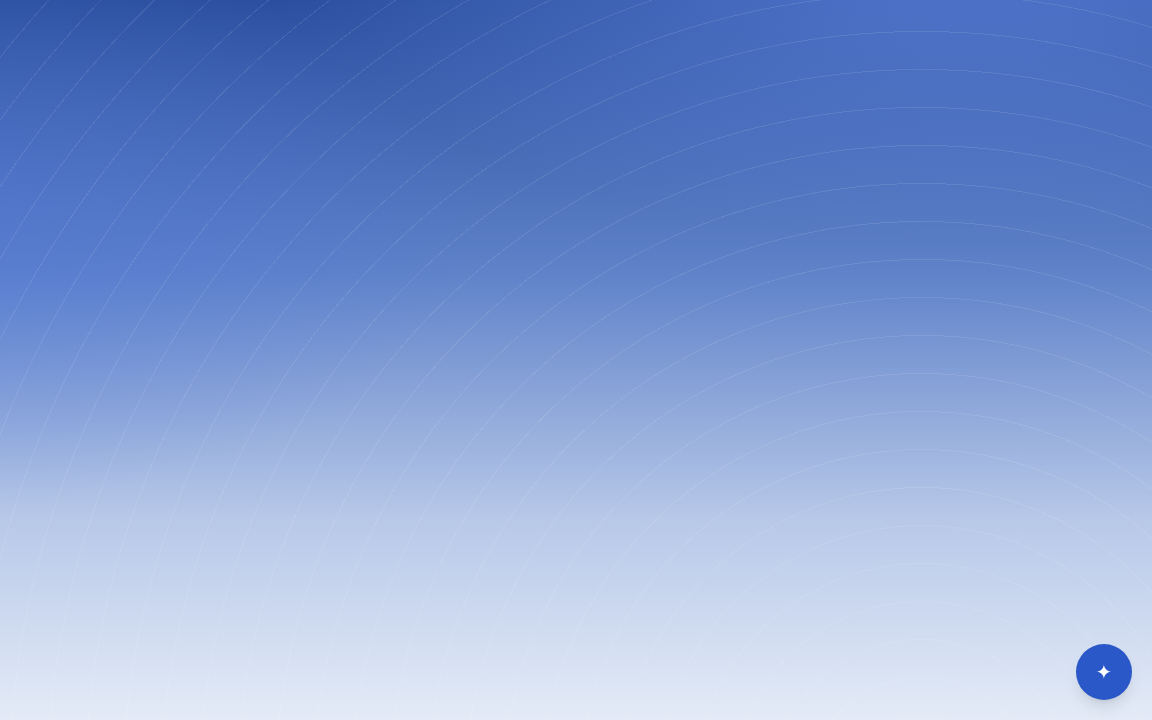
Scenario: ExplainerPanel › asks the server about the stored estimate and labels where the answer came from
Click the button named "AI explainer": (1104, 672) [1076,644,1132,700]
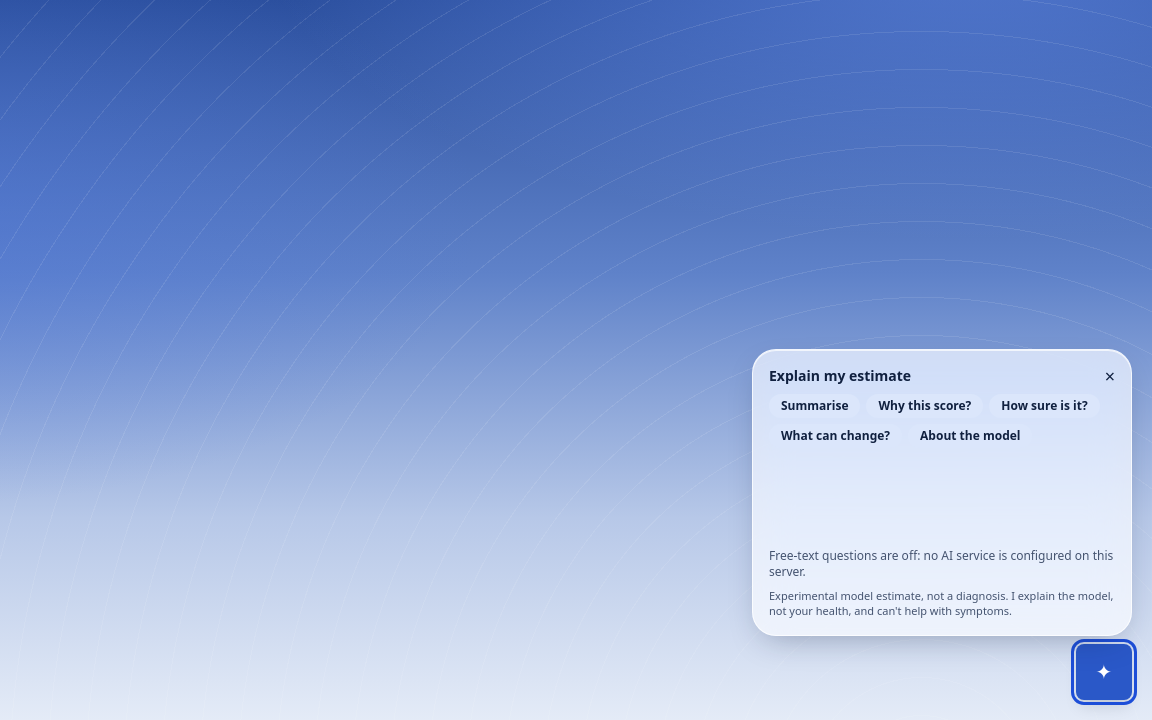
Click the button "Summarise": (815, 406) [769,394,860,418]
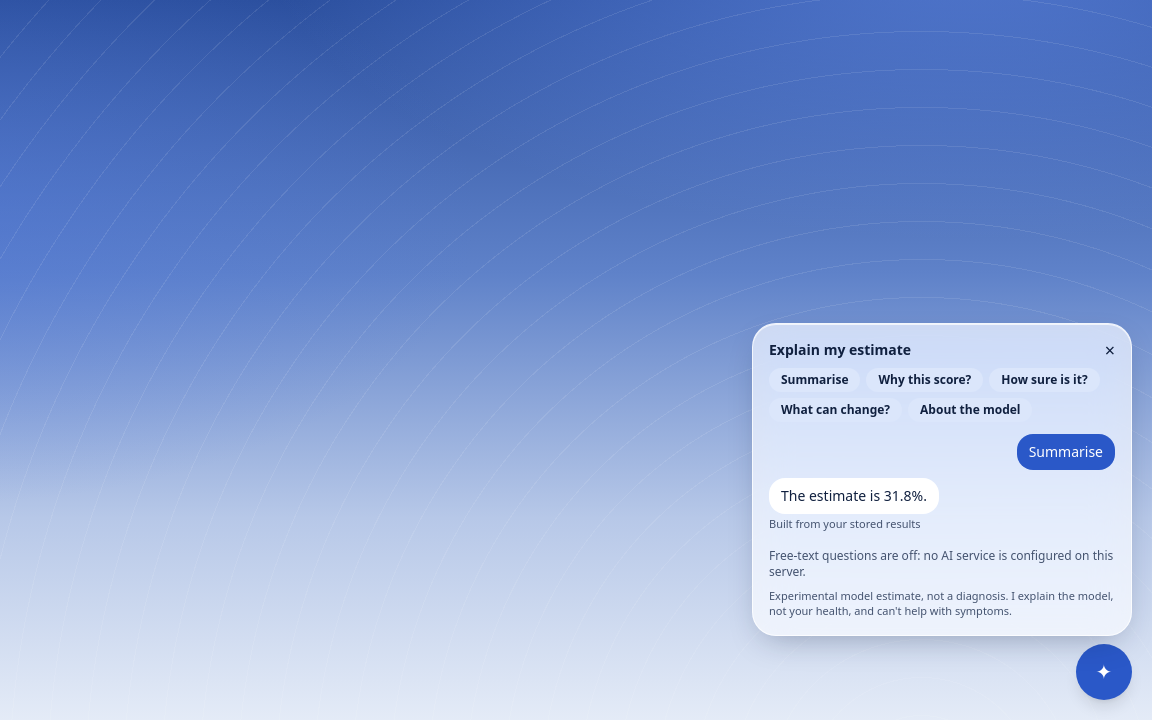
Result: the text "no AI service is configured" is shown at [769,547,1113,580]
Result: the text "The estimate is 31.8%." is shown at [769,478,939,514]
Result: the text "Built from your stored results" is shown at [769,516,920,531]
